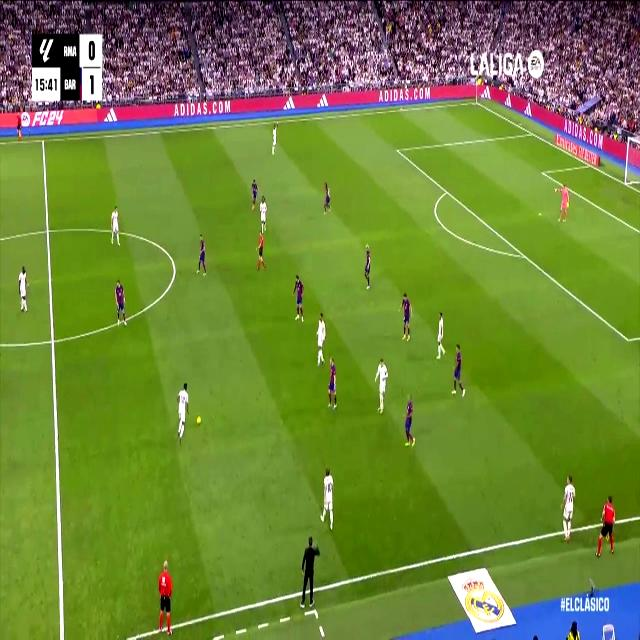bigarea_bottom_inner: (624, 328, 633, 350)
bigarea_top_inner: (395, 145, 400, 155)
bottom_arc_area_intersection: (520, 248, 528, 262)
corner: (472, 96, 480, 106)
halfcircle_bottom: (47, 328, 58, 352)
halfcircle_top: (42, 220, 53, 241)
midline_top_intersection: (40, 134, 46, 147)
smallarea_top_inner: (541, 168, 545, 176)
top_arc_area_intersection: (443, 184, 450, 197)
